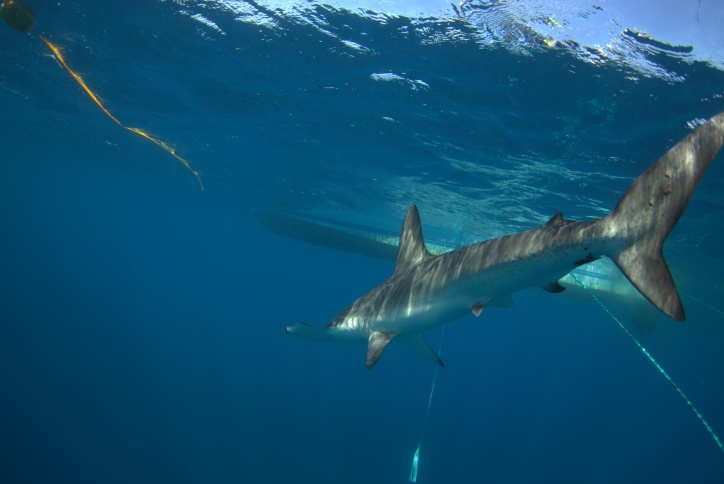Hammer: (273, 78, 724, 395)
